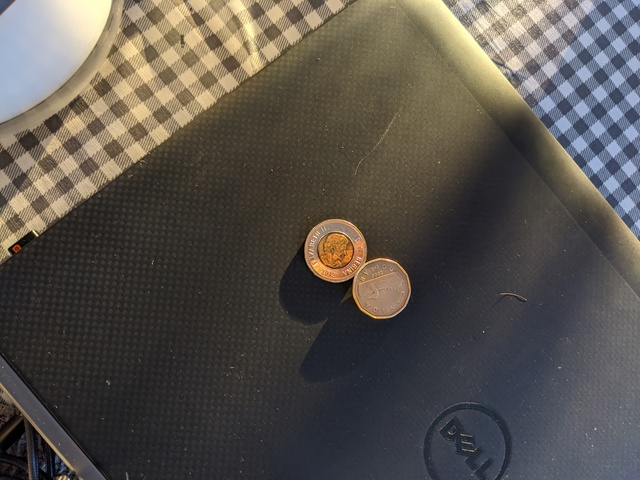loonie: (353, 256, 419, 323)
twonie: (300, 217, 367, 281)
